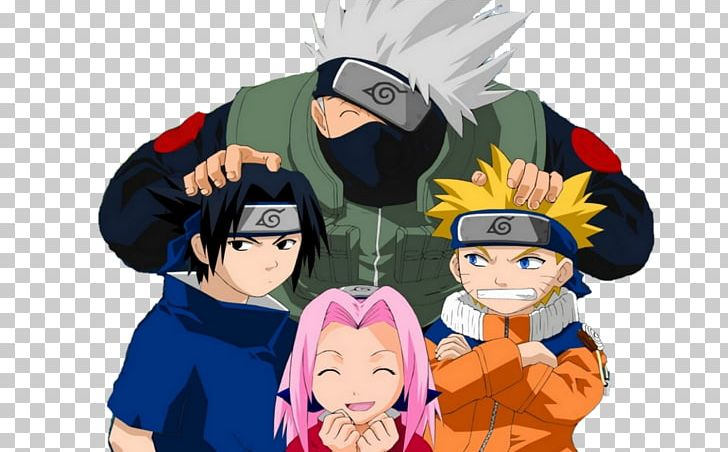kakashi: (310, 51, 451, 200)
naruto: (447, 205, 577, 321)
sakura: (314, 276, 413, 425)
sasuke: (189, 190, 310, 302)
